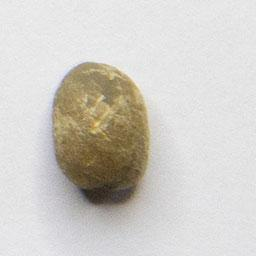peaberry: (48, 57, 154, 200)
